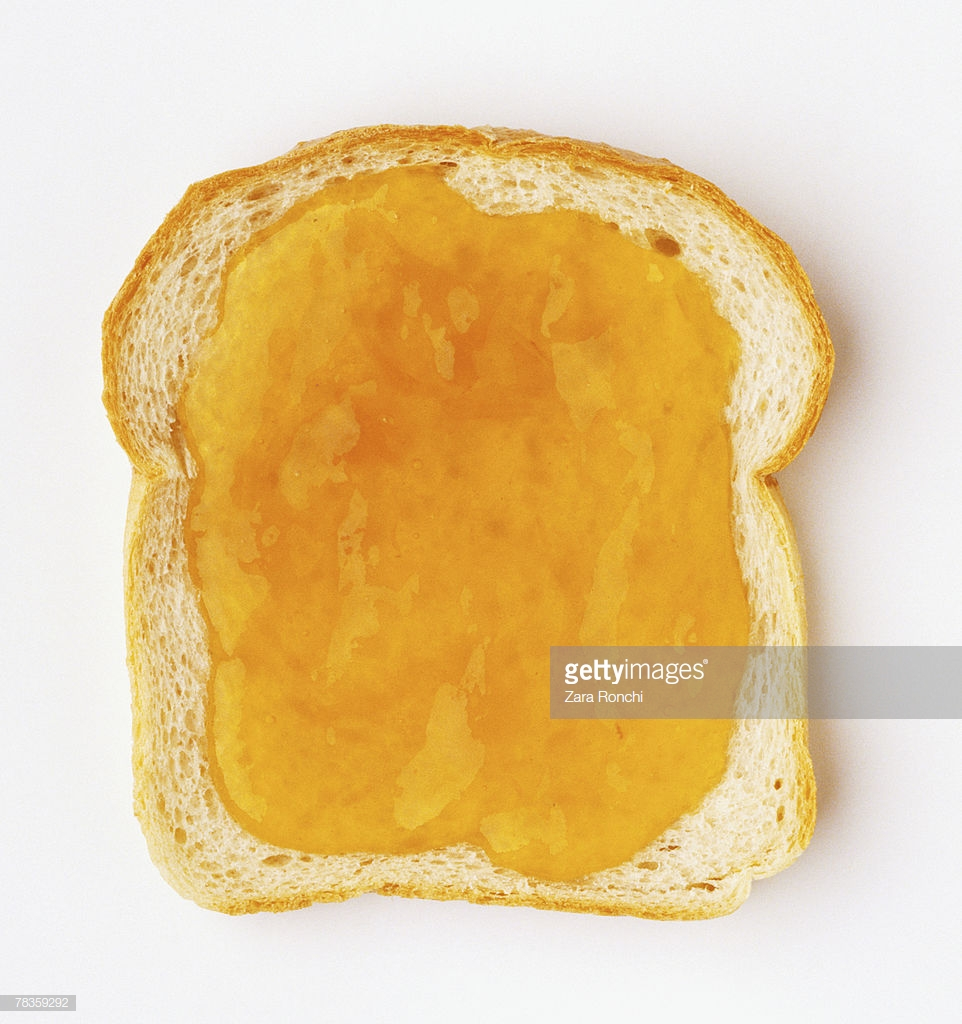slice of bread: (127, 206, 605, 921)
